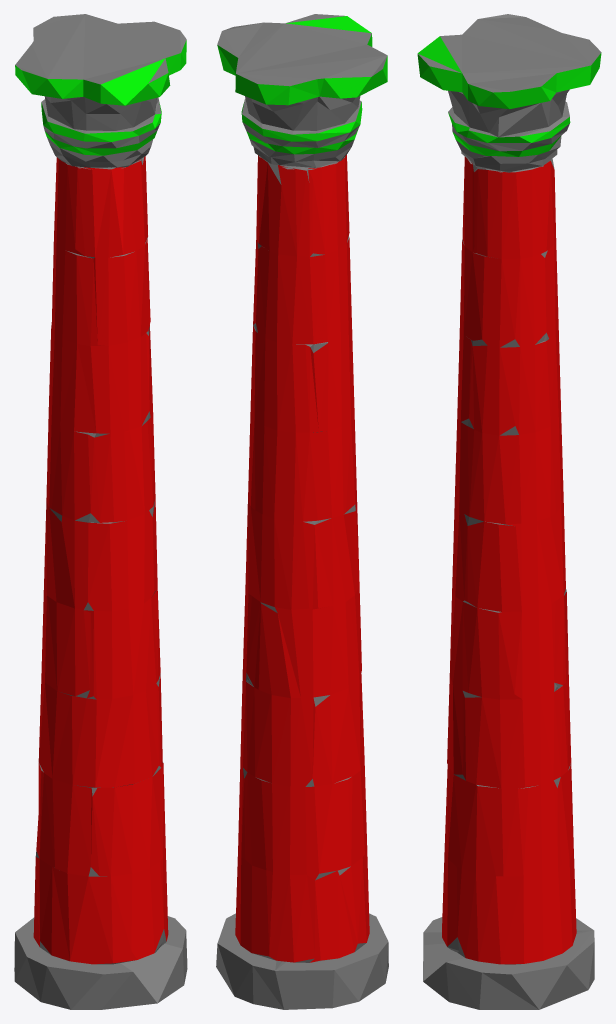
File: PillarCylinderTall04.fbx
The picture shows the model from 3 angles, left to right: view 1: azimuth 30°, elevation 25°; view 2: azimuth 150°, elevation 25°; view 3: azimuth 270°, elevation 25°; orthographic projection.
Parts seen in each view (by area): view 1: PillarCylinderTall04; view 2: PillarCylinderTall04; view 3: PillarCylinderTall04.
Part boxes in pixels (<box>): PillarCylinderTall04: <box>14,14,187,1009</box>; PillarCylinderTall04: <box>216,14,388,1009</box>; PillarCylinderTall04: <box>417,14,601,1009</box>.
Bounding box in the file's own units: 208 × 1148 × 207.
